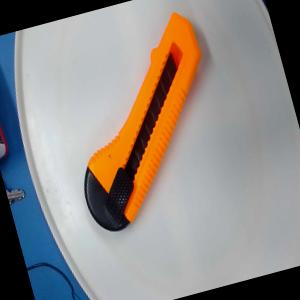estilete: (42, 6, 241, 238)
